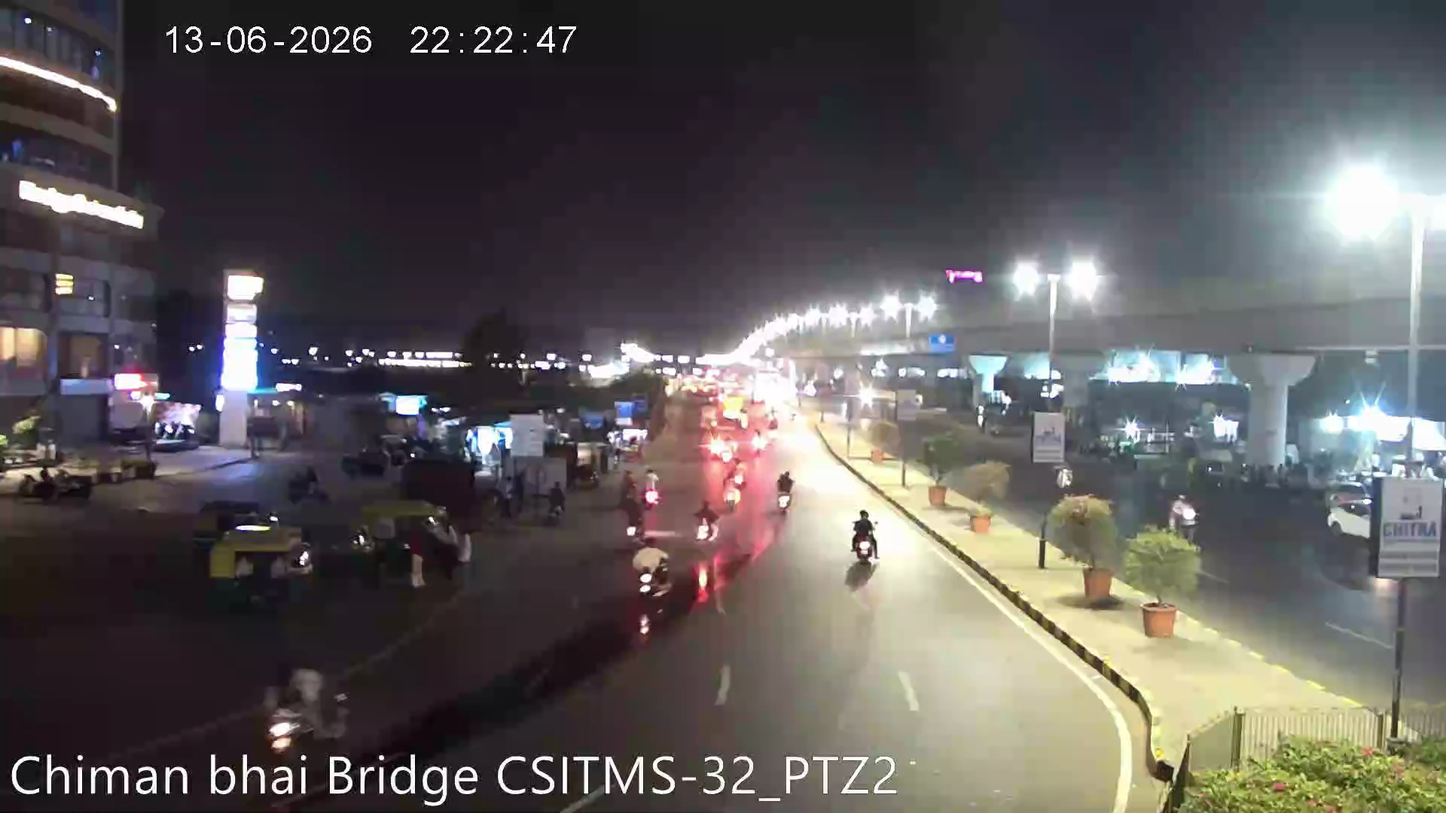auto_rickshaw: (201, 523, 322, 616), (351, 497, 465, 576)
two_wheeler: (245, 655, 366, 760), (629, 538, 671, 637), (628, 539, 678, 613), (845, 506, 883, 572), (1165, 489, 1205, 540), (687, 497, 721, 550), (771, 464, 801, 518), (721, 456, 749, 512), (638, 464, 666, 512)
